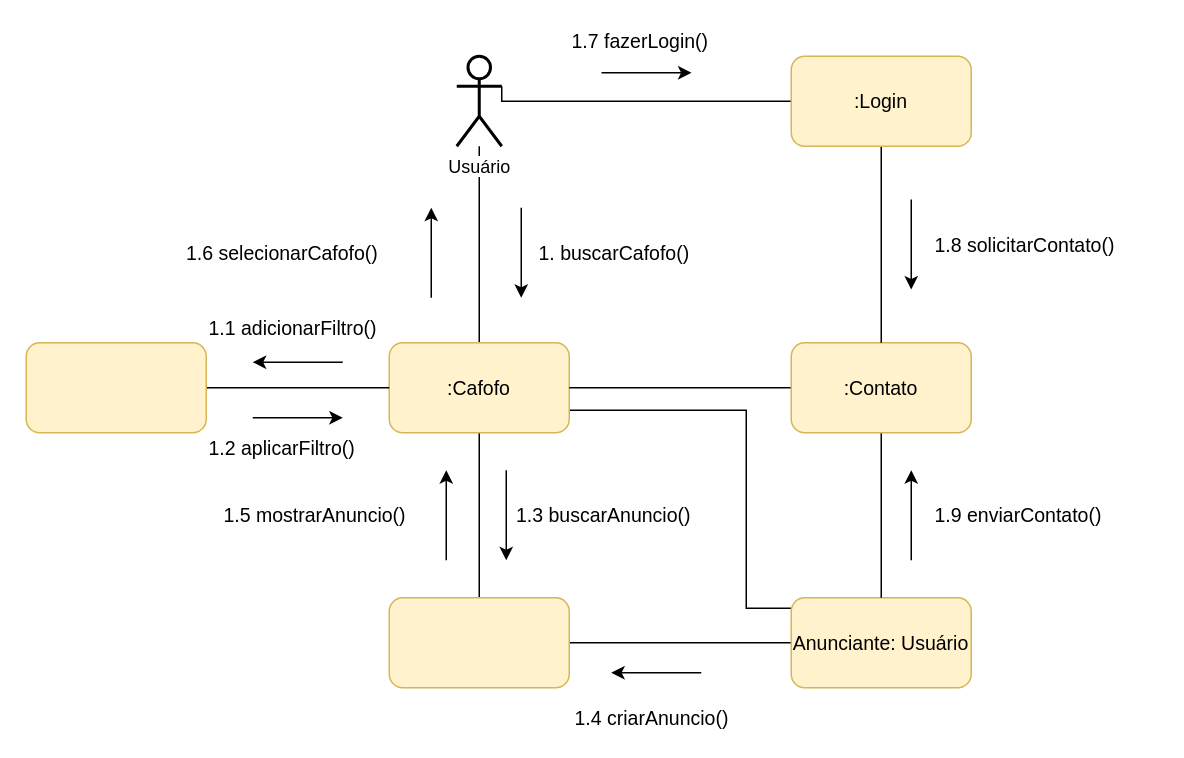
This 1184x758 diagram has some shape labels left out. Here are the shapes that lost their labels. From the top down, the centre of each, then its label:
At pixel 115 387: ":Filtro".
At pixel 478 642: ":Anúncio".
